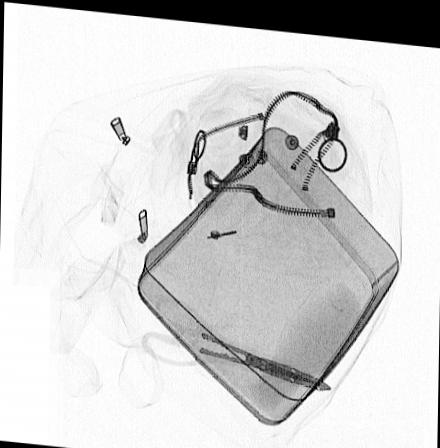Scissors: (140, 291, 334, 385)
